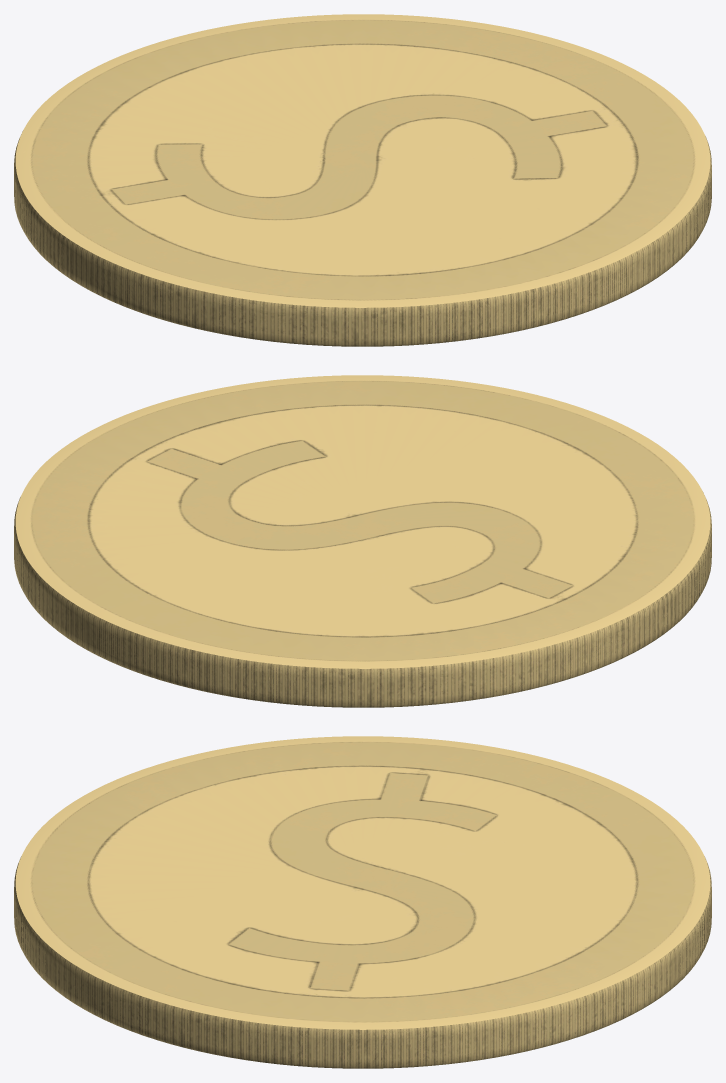
The model's file is coin.fbx.
3 views of the same model, one above another, from view 1: azimuth 30°, elevation 25°; view 2: azimuth 150°, elevation 25°; view 3: azimuth 270°, elevation 25° (orthographic).
Parts seen in each view (by area): view 1: Cylinder; view 2: Cylinder; view 3: Cylinder.
Boxes of the visible parts, x1,y1,x2,y2 form: Cylinder: (14, 14, 711, 346); Cylinder: (14, 375, 711, 707); Cylinder: (14, 736, 711, 1068).
Bounding box in the file's own units: 200 × 12.84 × 200.
Materials: 2 (2 with a texture image).
